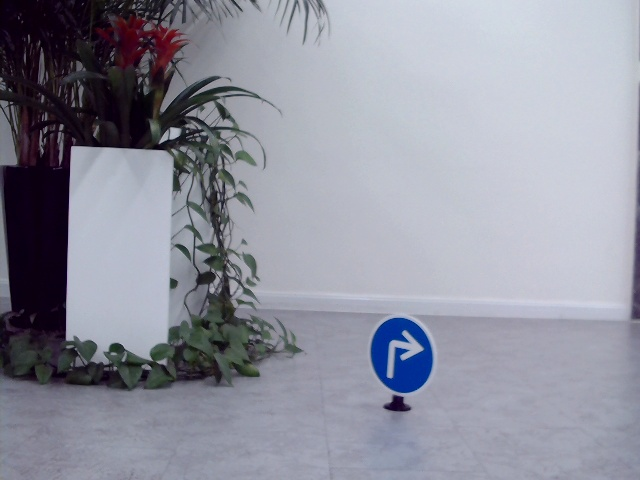turn_right: (381, 327, 421, 379)
